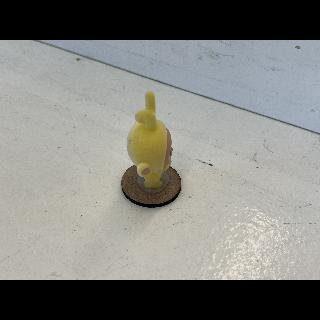teletubby: (127, 91, 173, 189)
